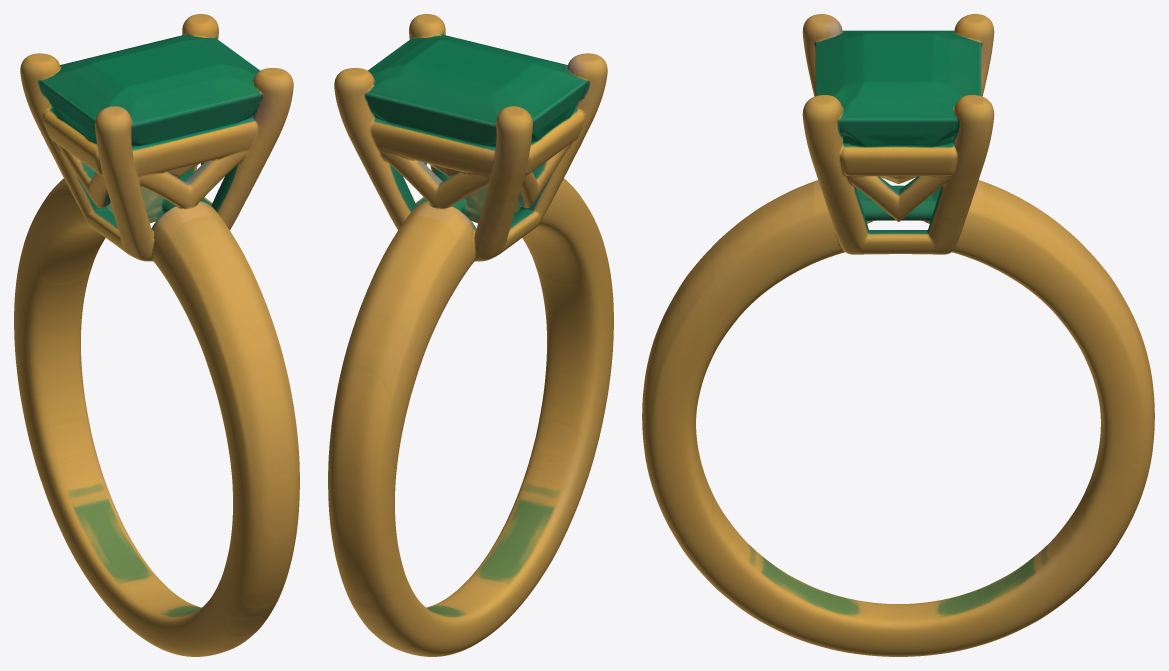
The model's file is gold ring with emerald 3d model.glb.
The picture shows the model from 3 angles, left to right: view 1: azimuth 30°, elevation 25°; view 2: azimuth 150°, elevation 25°; view 3: azimuth 270°, elevation 25°; orthographic projection. The views are drawn at different scales.
Visible parts, largest first — view 1: tripo_node_586508d9-1417-4f92-adbc-2afb8884d612; view 2: tripo_node_586508d9-1417-4f92-adbc-2afb8884d612; view 3: tripo_node_586508d9-1417-4f92-adbc-2afb8884d612.
Part boxes in pixels (left/top/right/bottom): tripo_node_586508d9-1417-4f92-adbc-2afb8884d612: left=14, top=14, right=299, bottom=656; tripo_node_586508d9-1417-4f92-adbc-2afb8884d612: left=328, top=14, right=613, bottom=656; tripo_node_586508d9-1417-4f92-adbc-2afb8884d612: left=642, top=14, right=1154, bottom=656.
Size of the model in its own units: 0.3531 by 1 by 0.7809.
1 material, 1 textured.
